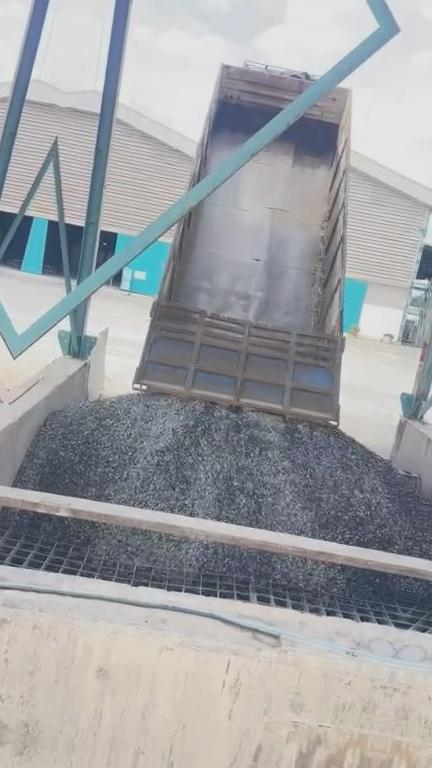gravel: (15, 394, 426, 555), (0, 511, 409, 597)
